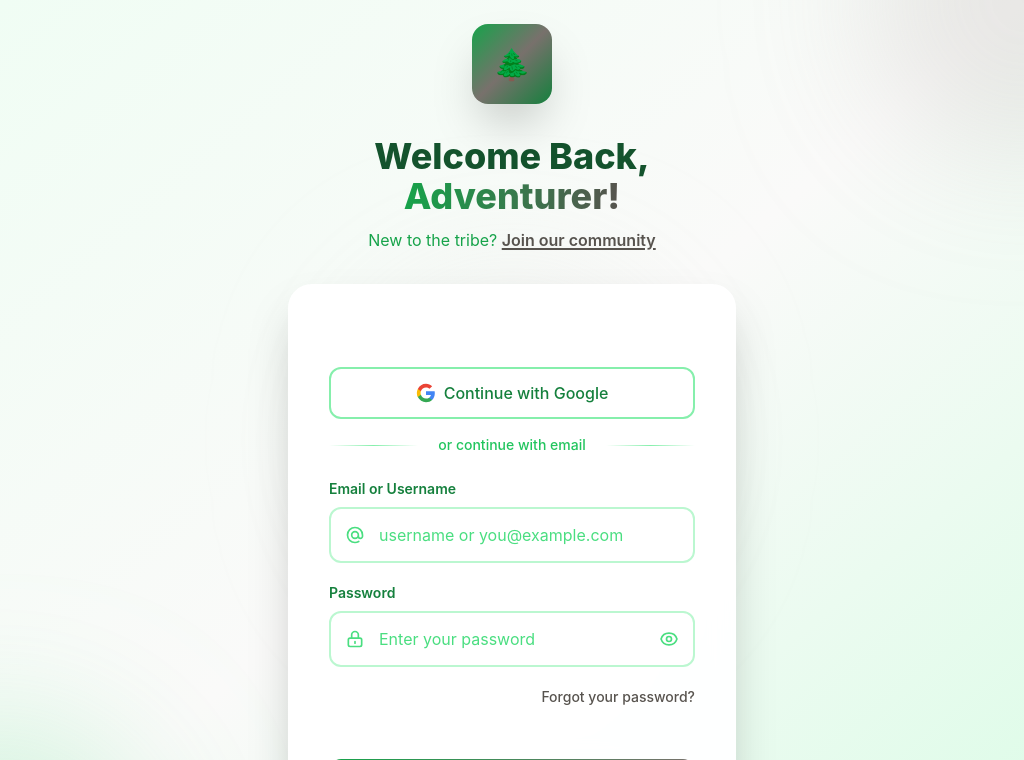
Login Component › shows loading state during submission
The image size is (1024, 760).
Type "user@test.com" into the field with placeholder "username or you@example.com" at (512, 535), box x1=329 y1=507 x2=695 y2=563
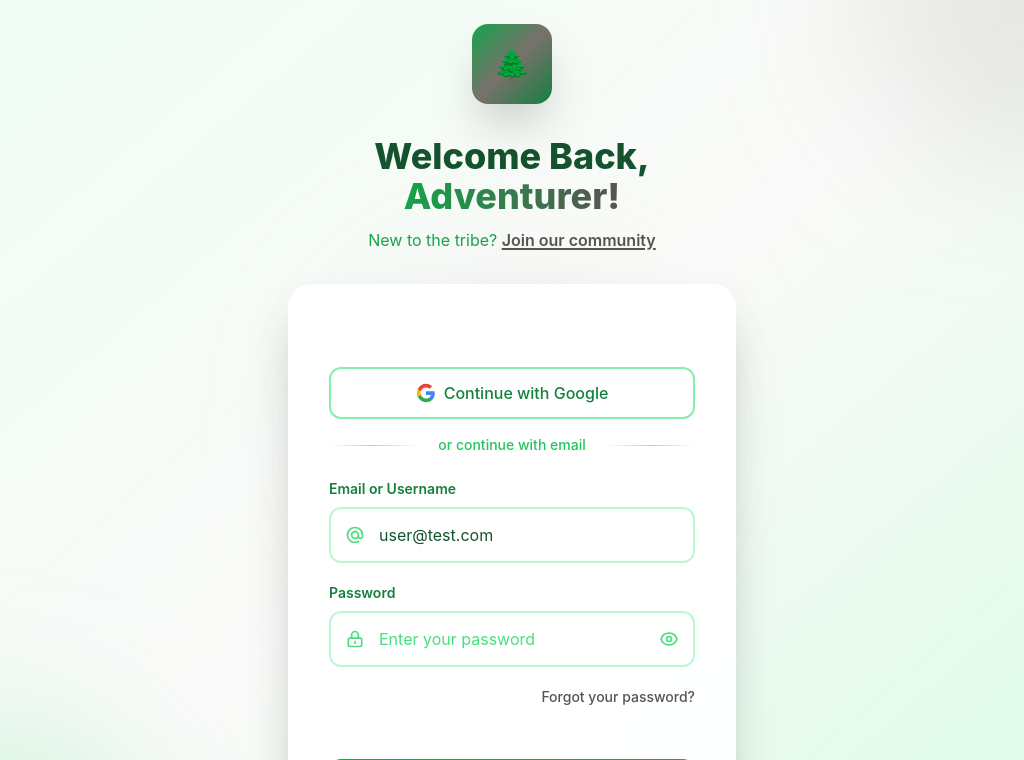
Type "password123" into the password field with placeholder "Enter your password" at (512, 639), box x1=329 y1=611 x2=695 y2=667
(page scrolled)
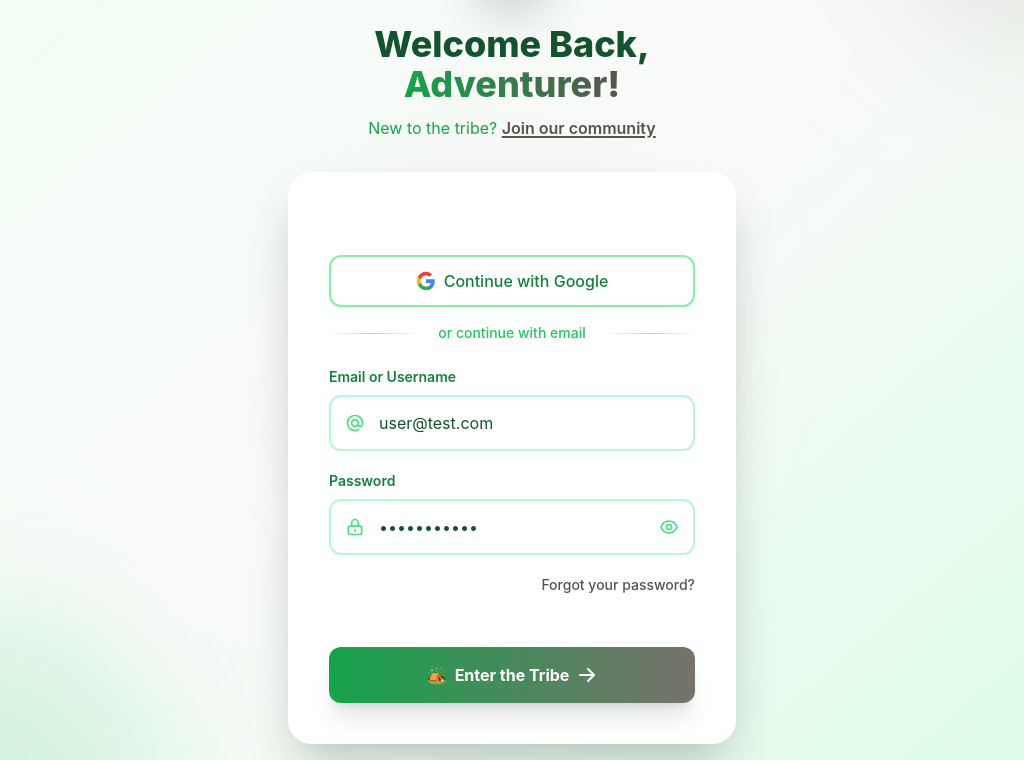
Click the text "Enter the Tribe" at (512, 675), box x1=455 y1=663 x2=569 y2=687
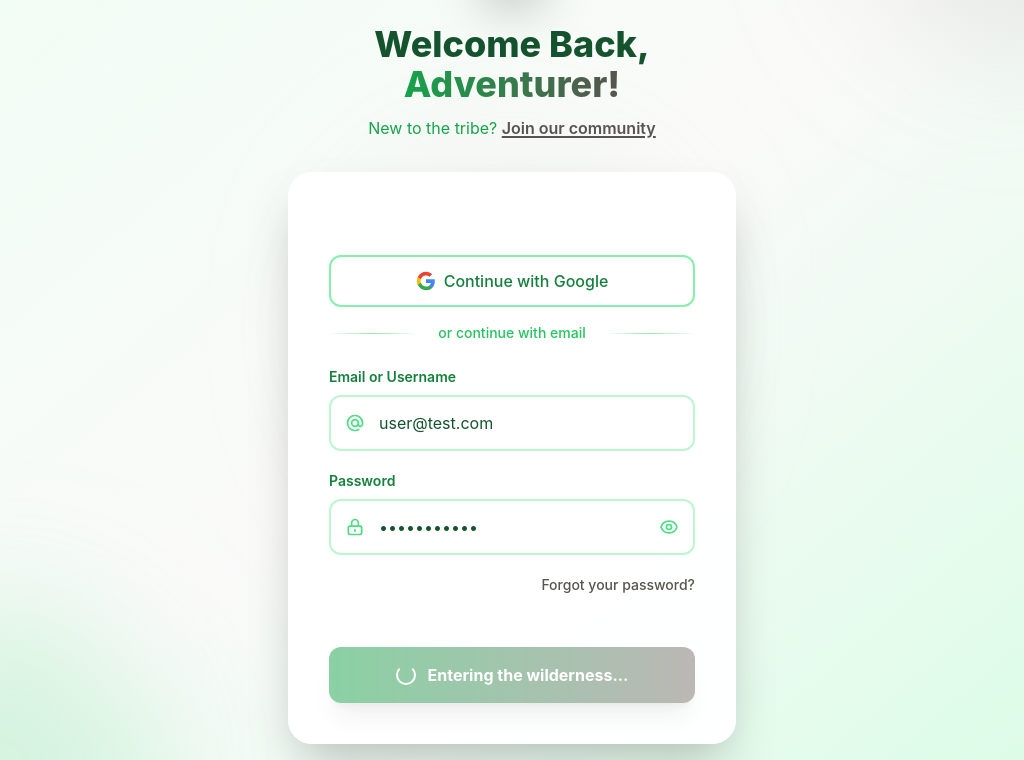
Now the text "Entering the wilderness..." is shown, box x1=428 y1=663 x2=628 y2=687
